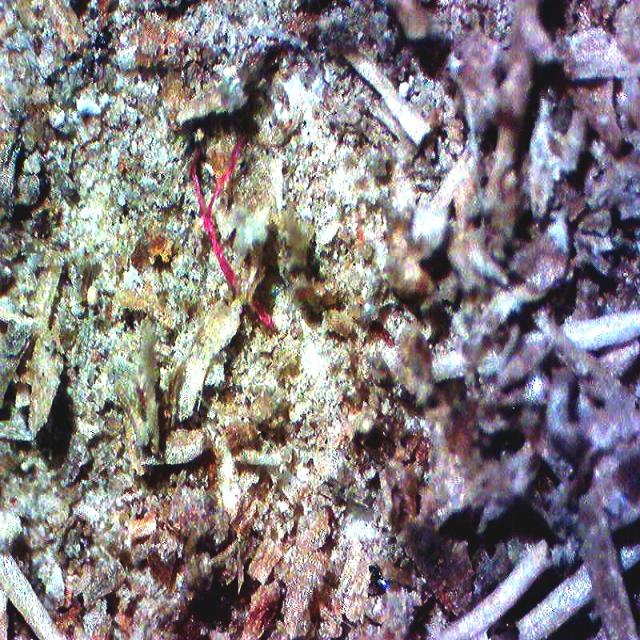microplastic: (185, 136, 241, 287), (246, 296, 277, 332)
